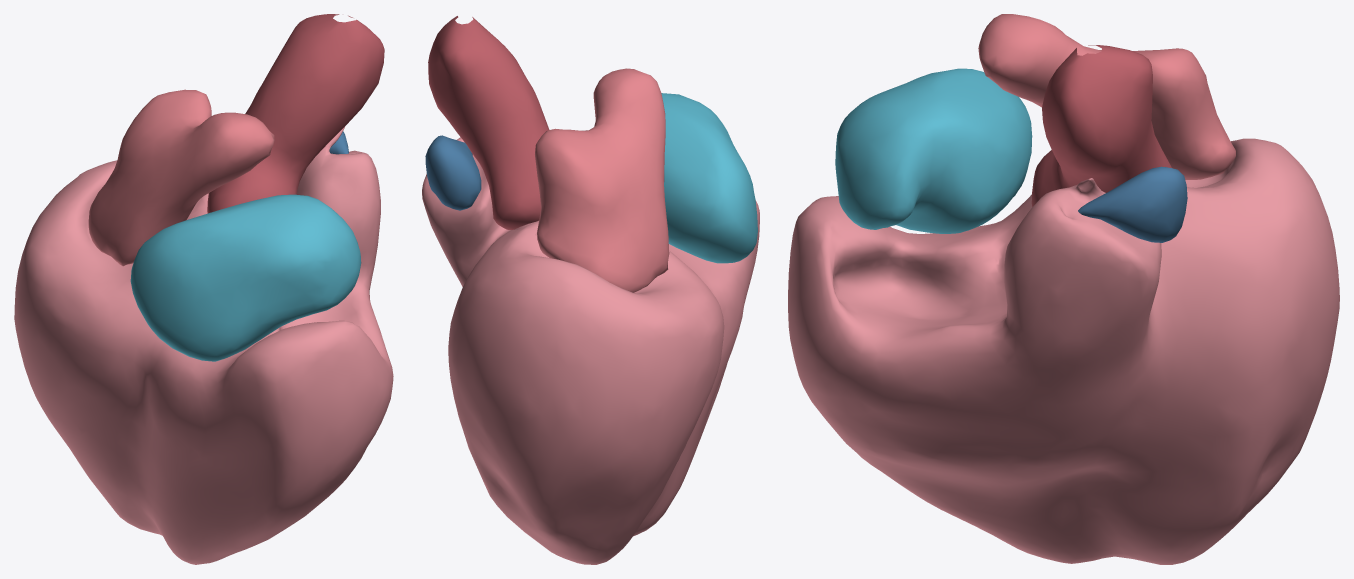
The model's file is frame_8.glb.
The picture shows the model from 3 angles, left to right: view 1: azimuth 30°, elevation 25°; view 2: azimuth 150°, elevation 25°; view 3: azimuth 270°, elevation 25°; orthographic projection. The views are drawn at different scales.
Parts seen in each view (by area): view 1: Renderer Node; view 2: Renderer Node; view 3: Renderer Node.
Part boxes in pixels (x1,y1,x2,y2): Renderer Node: [14, 14, 393, 564]; Renderer Node: [422, 16, 759, 564]; Renderer Node: [788, 14, 1339, 564].
Size of the model in its own units: 107 by 164 by 135.
